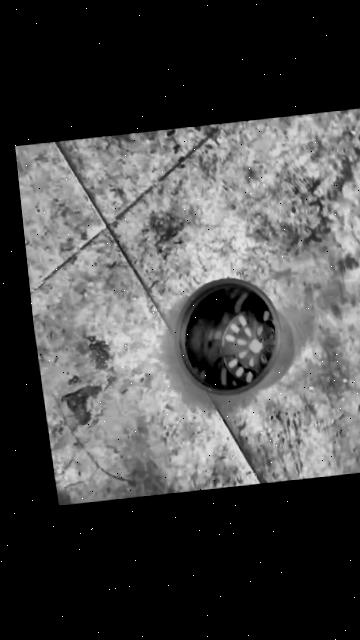pot: (166, 272, 295, 401)
